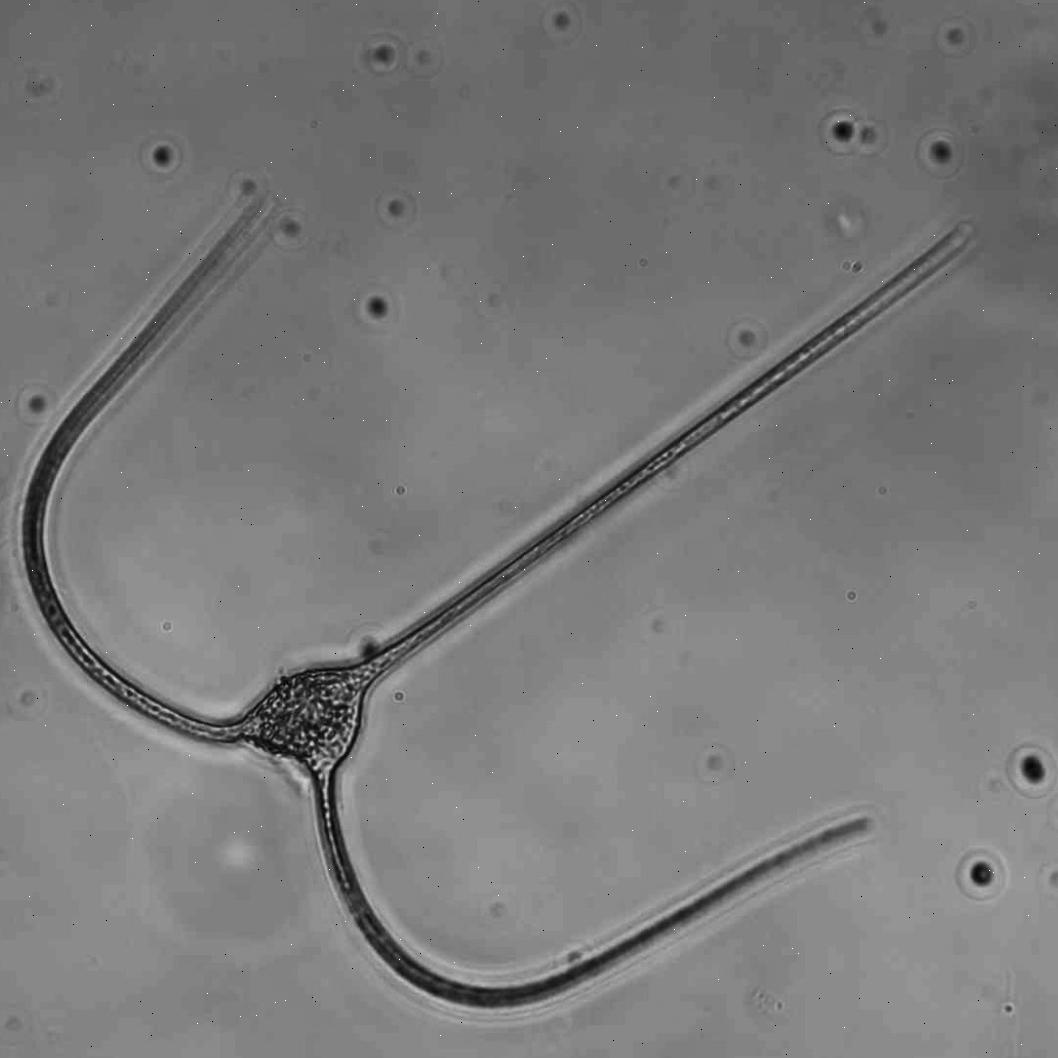ceratium_trichorecos: (20, 195, 974, 1011)
